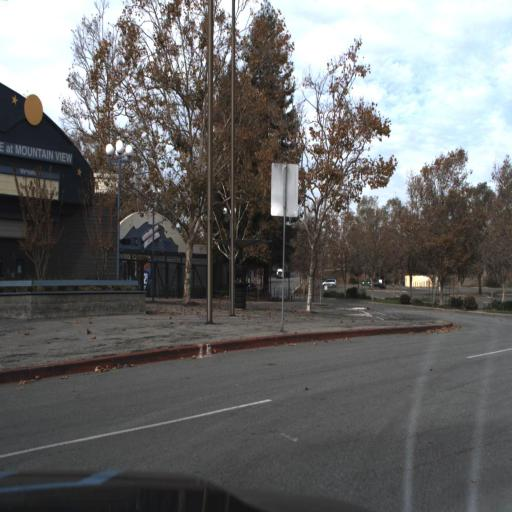car: (321, 276, 338, 292)
